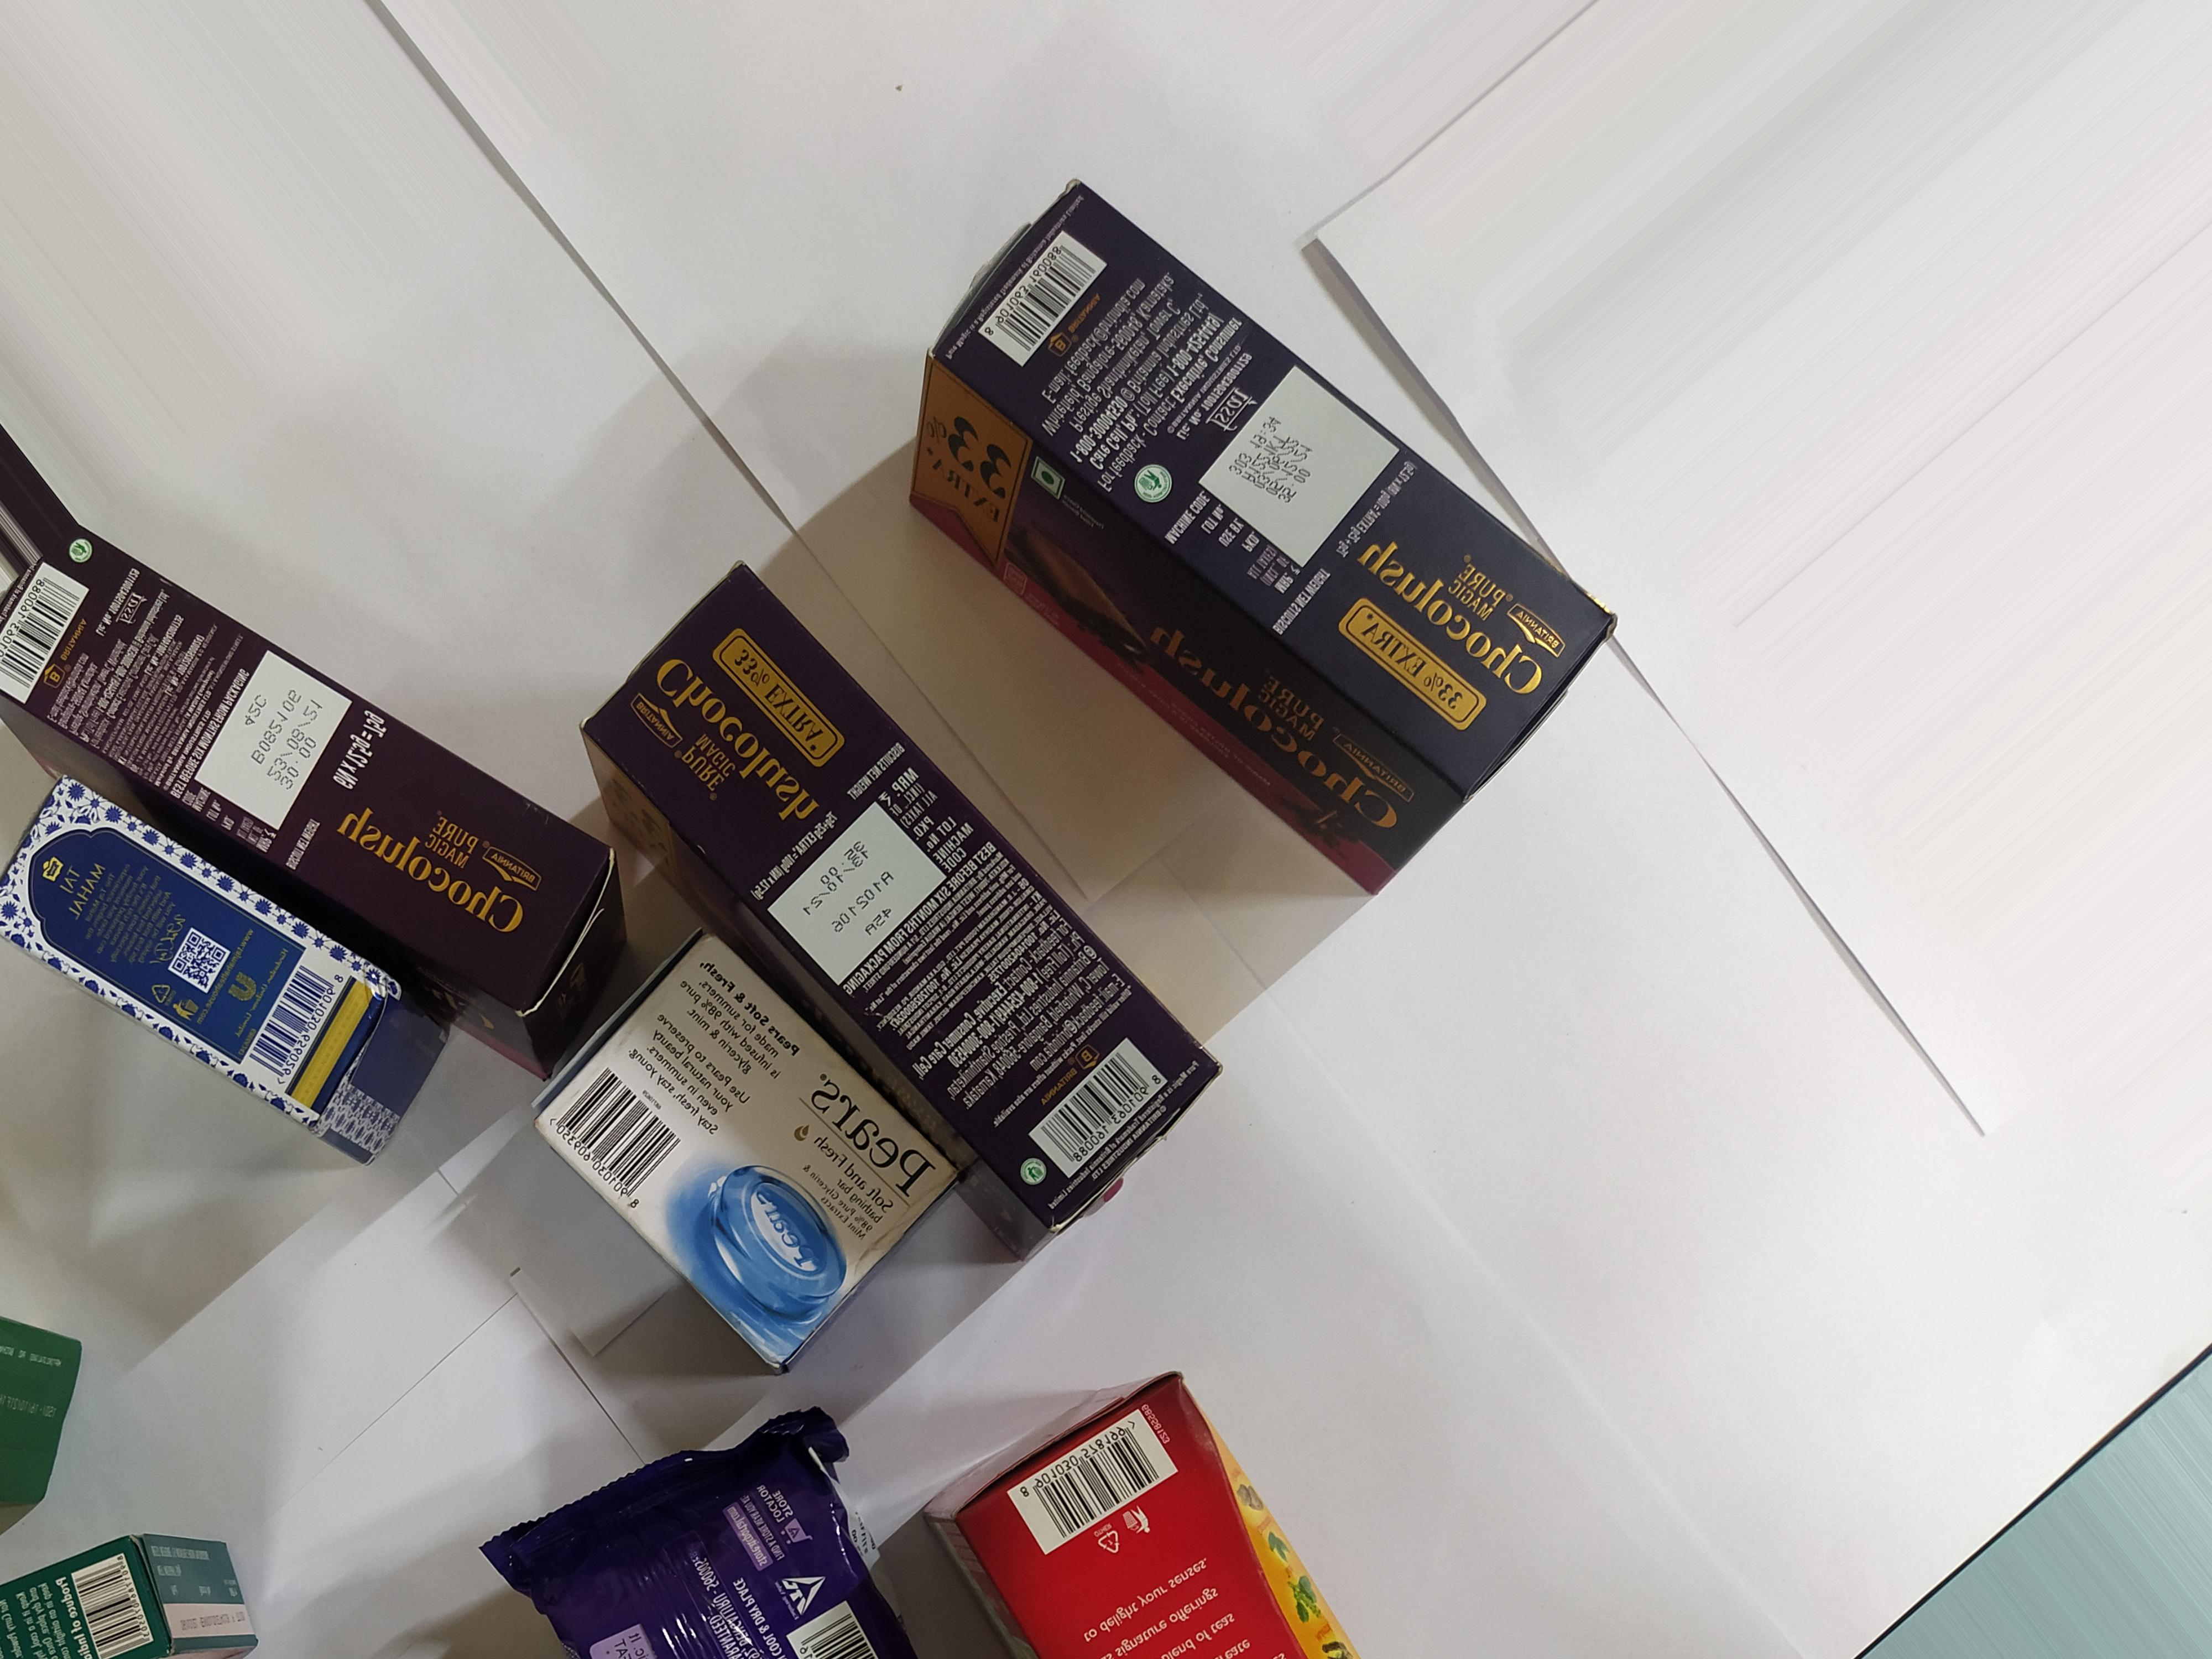Bar_code: (977, 1412, 1204, 1565), (1015, 1037, 1188, 1208), (960, 218, 1118, 385), (545, 1063, 690, 1213), (0, 556, 94, 732), (247, 962, 347, 1108), (57, 1558, 179, 1659), (786, 1601, 864, 1659)
Item: (953, 164, 1634, 950), (575, 540, 1273, 1267), (0, 498, 658, 1042), (540, 939, 970, 1364), (0, 803, 446, 1180), (428, 1392, 930, 1659), (909, 1378, 1371, 1659)
QR_code: (176, 931, 228, 1000)
